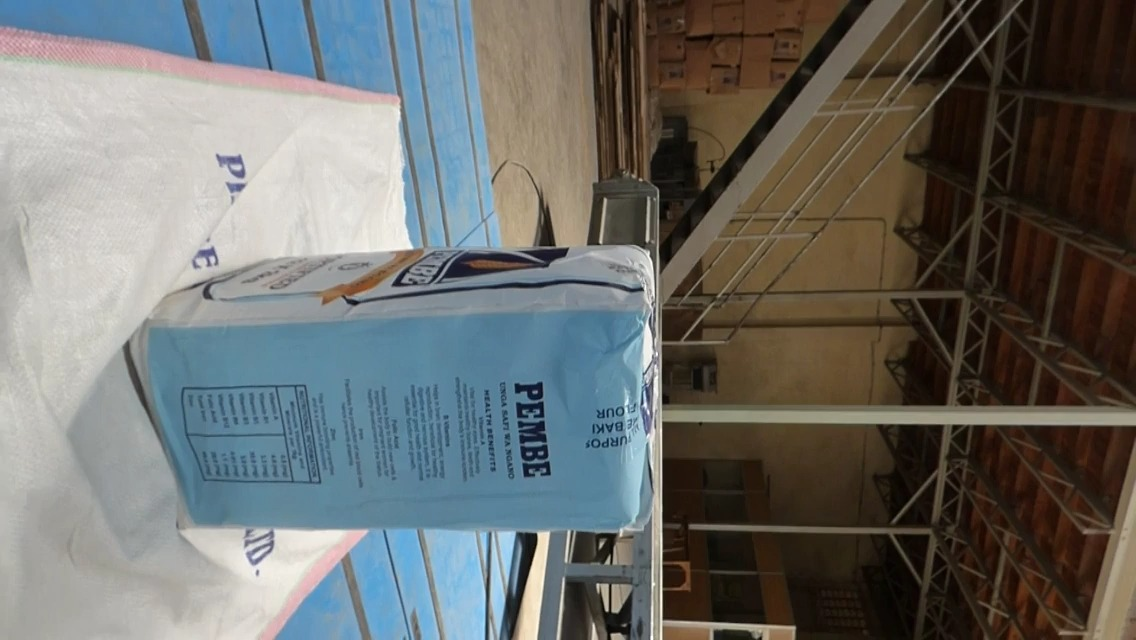wheat_flour_blue_label: (149, 244, 656, 535)
